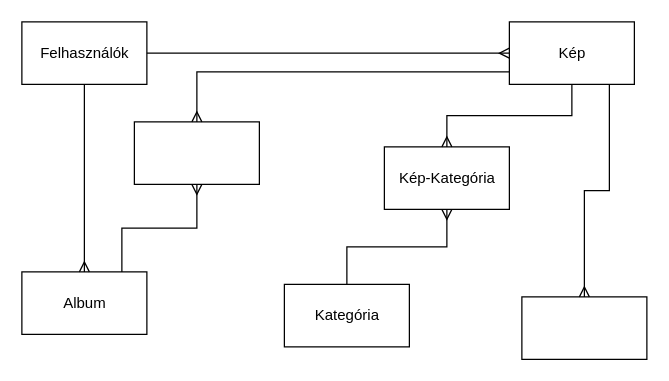
The diagram is 669 pixels wide and 381 high, and some of its shapes have lost their labels. The box of each missing label's shape, as (x1, y1, x2, y2) in pixels:
Helyszín: (521, 296, 647, 359)
Kép-Album: (133, 121, 259, 184)
